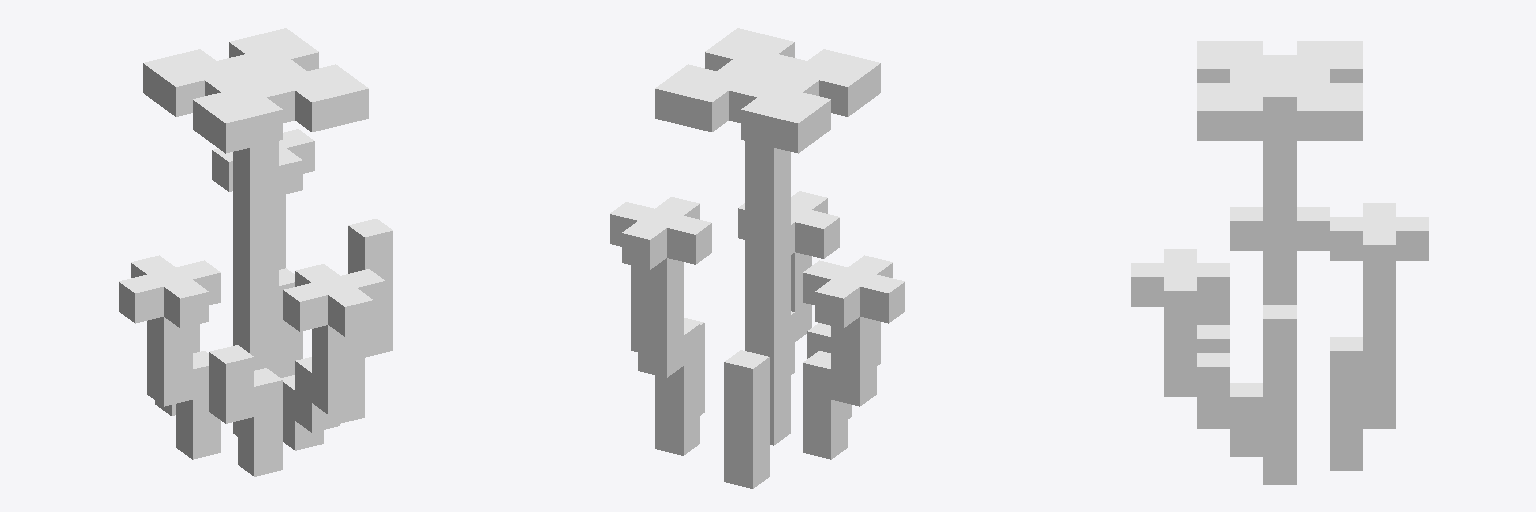
The model's file is Flower4.obj.
3 views of the same model, side by side, from view 1: azimuth 30°, elevation 25°; view 2: azimuth 150°, elevation 25°; view 3: azimuth 270°, elevation 25° (orthographic).
Parts seen in each view (by area): view 1: Flower4; view 2: Flower4; view 3: Flower4.
Boxes of the visible parts, x1=… form: Flower4: x1=119, y1=28, x2=392, y2=476; Flower4: x1=610, y1=28, x2=904, y2=488; Flower4: x1=1131, y1=41, x2=1428, y2=484.
Size of the model in its own units: 0.9 by 1.2 by 0.9.